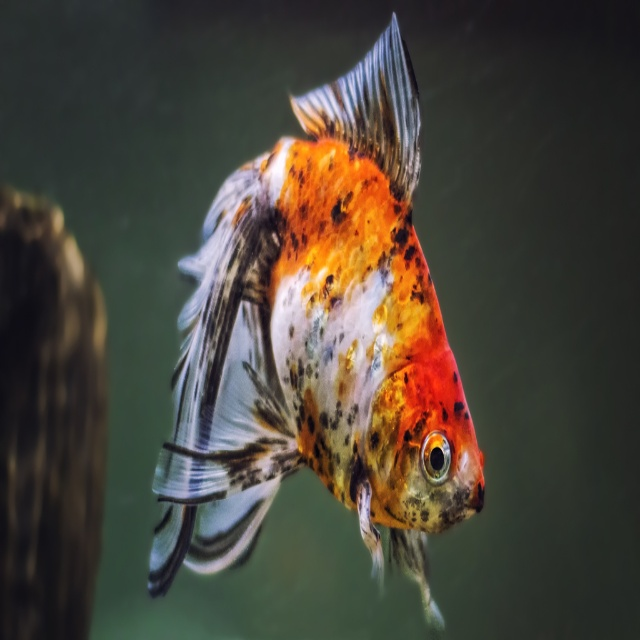Goldfish: (133, 35, 470, 591)
